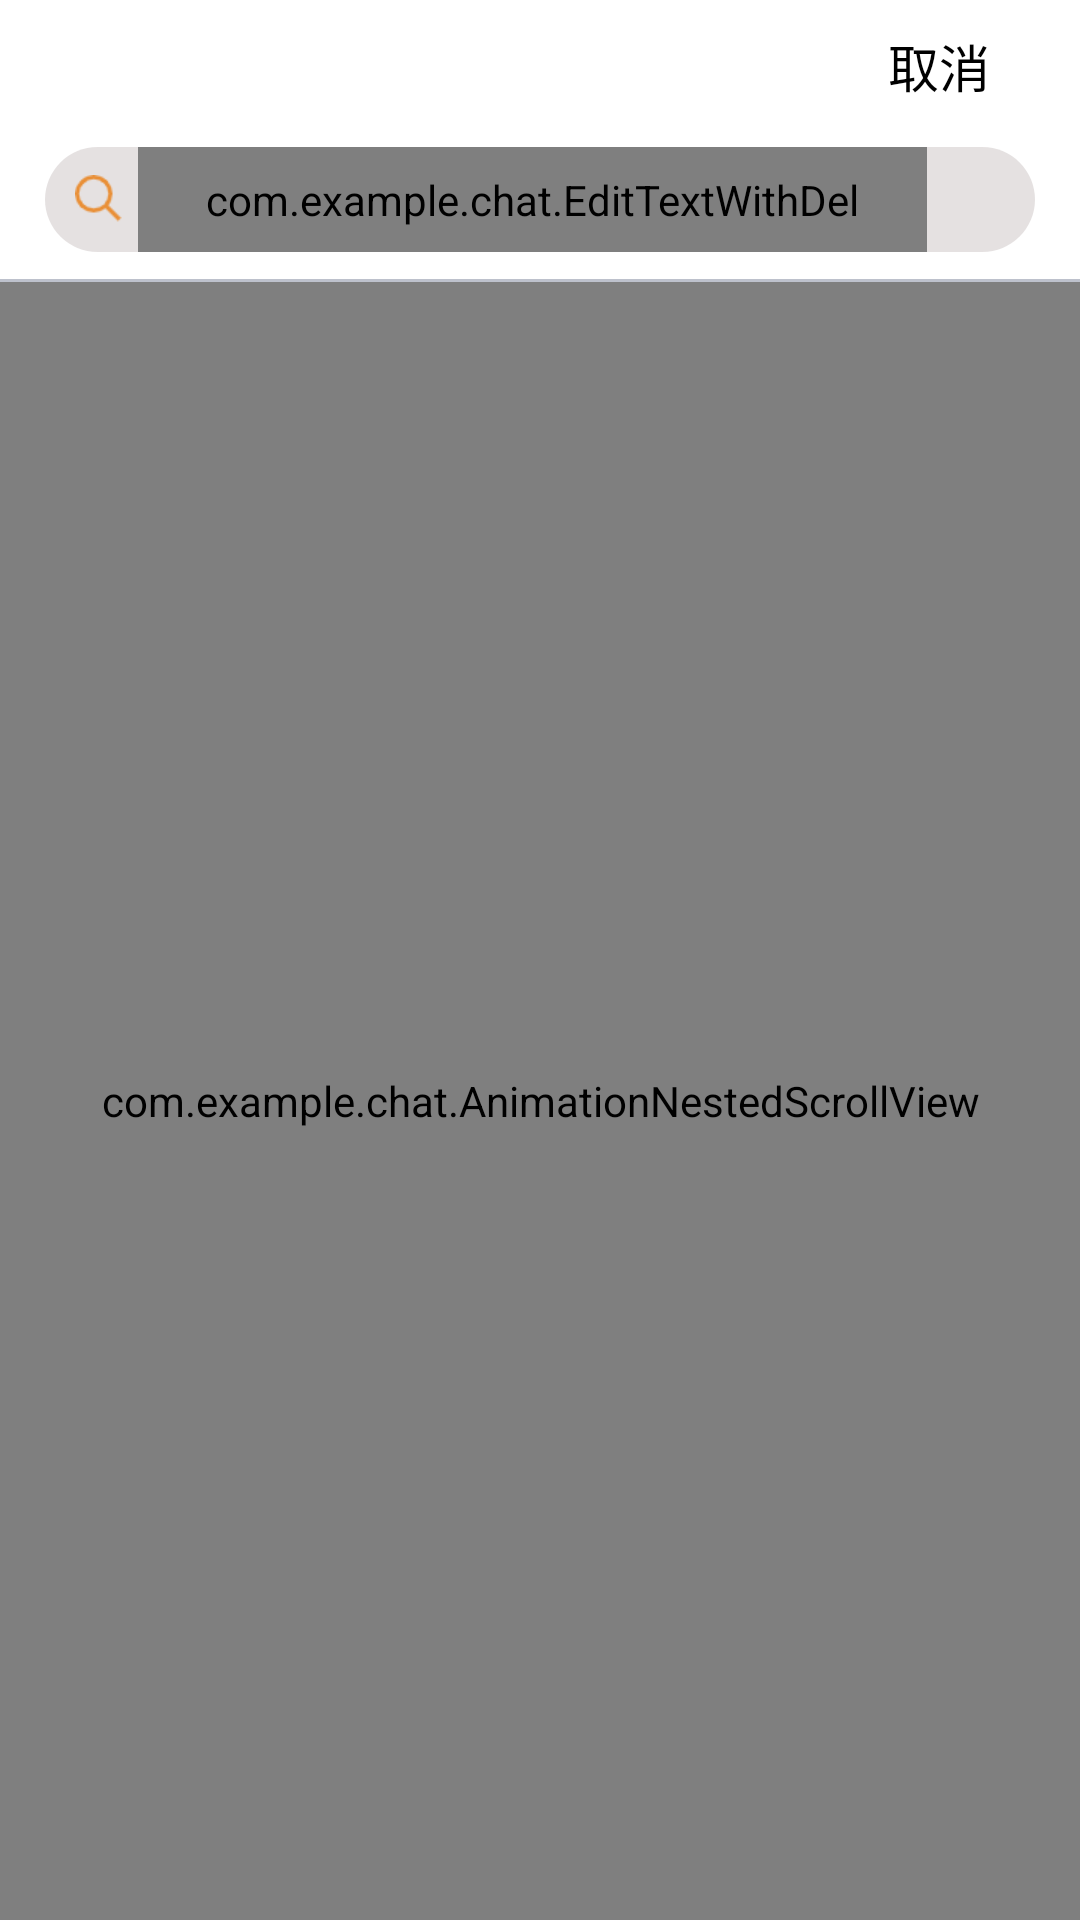

Named icons in this screenshot (1080 x 1920) and their centers, point (x, y):
search: point (98, 198)
